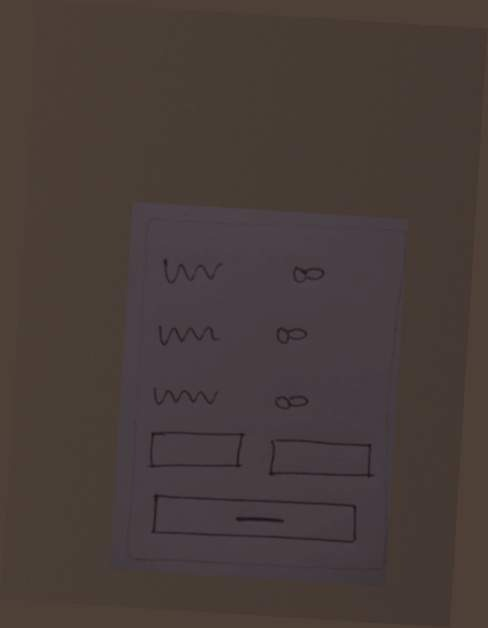button: (143, 487, 369, 549)
switch: (261, 380, 318, 419), (282, 256, 337, 293), (268, 318, 316, 351)
text: (155, 250, 229, 289), (151, 316, 226, 353), (146, 378, 225, 413)
text_input: (265, 431, 380, 489), (143, 423, 251, 483)
